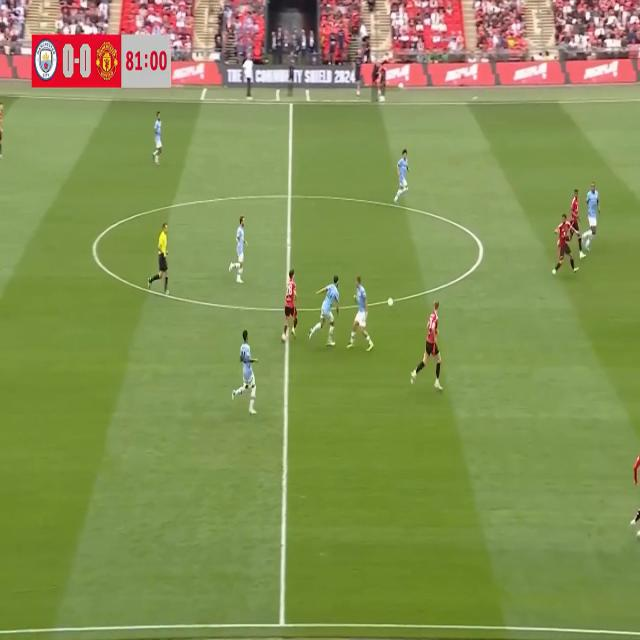ball: (386, 286, 396, 317)
players: (409, 305, 444, 390), (310, 272, 344, 356), (232, 329, 262, 418), (622, 433, 640, 541), (550, 211, 578, 280), (582, 177, 604, 260), (348, 280, 374, 350), (392, 141, 414, 211), (570, 183, 588, 268), (229, 212, 248, 288), (281, 265, 299, 343), (148, 101, 167, 168), (0, 101, 10, 166)
refree: (145, 218, 179, 300)
